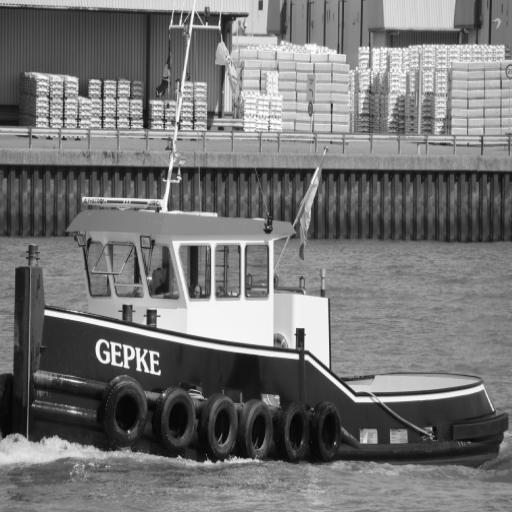tugboat: (1, 186, 512, 482)
